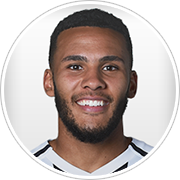smile: (73, 96, 111, 111)
